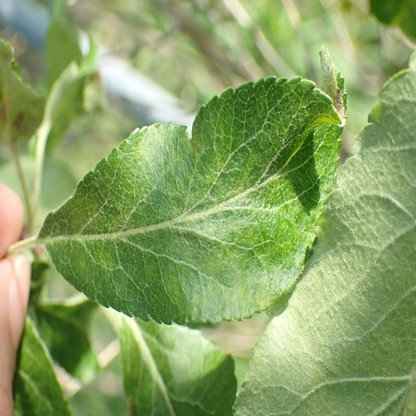scab: (192, 126, 201, 156)
